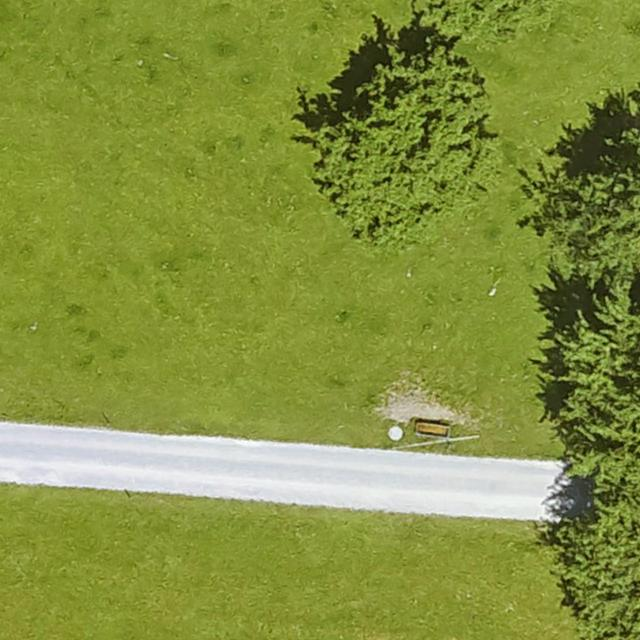tree: (319, 43, 493, 240), (558, 293, 639, 523), (545, 129, 640, 285), (559, 516, 640, 639), (408, 0, 555, 37)
